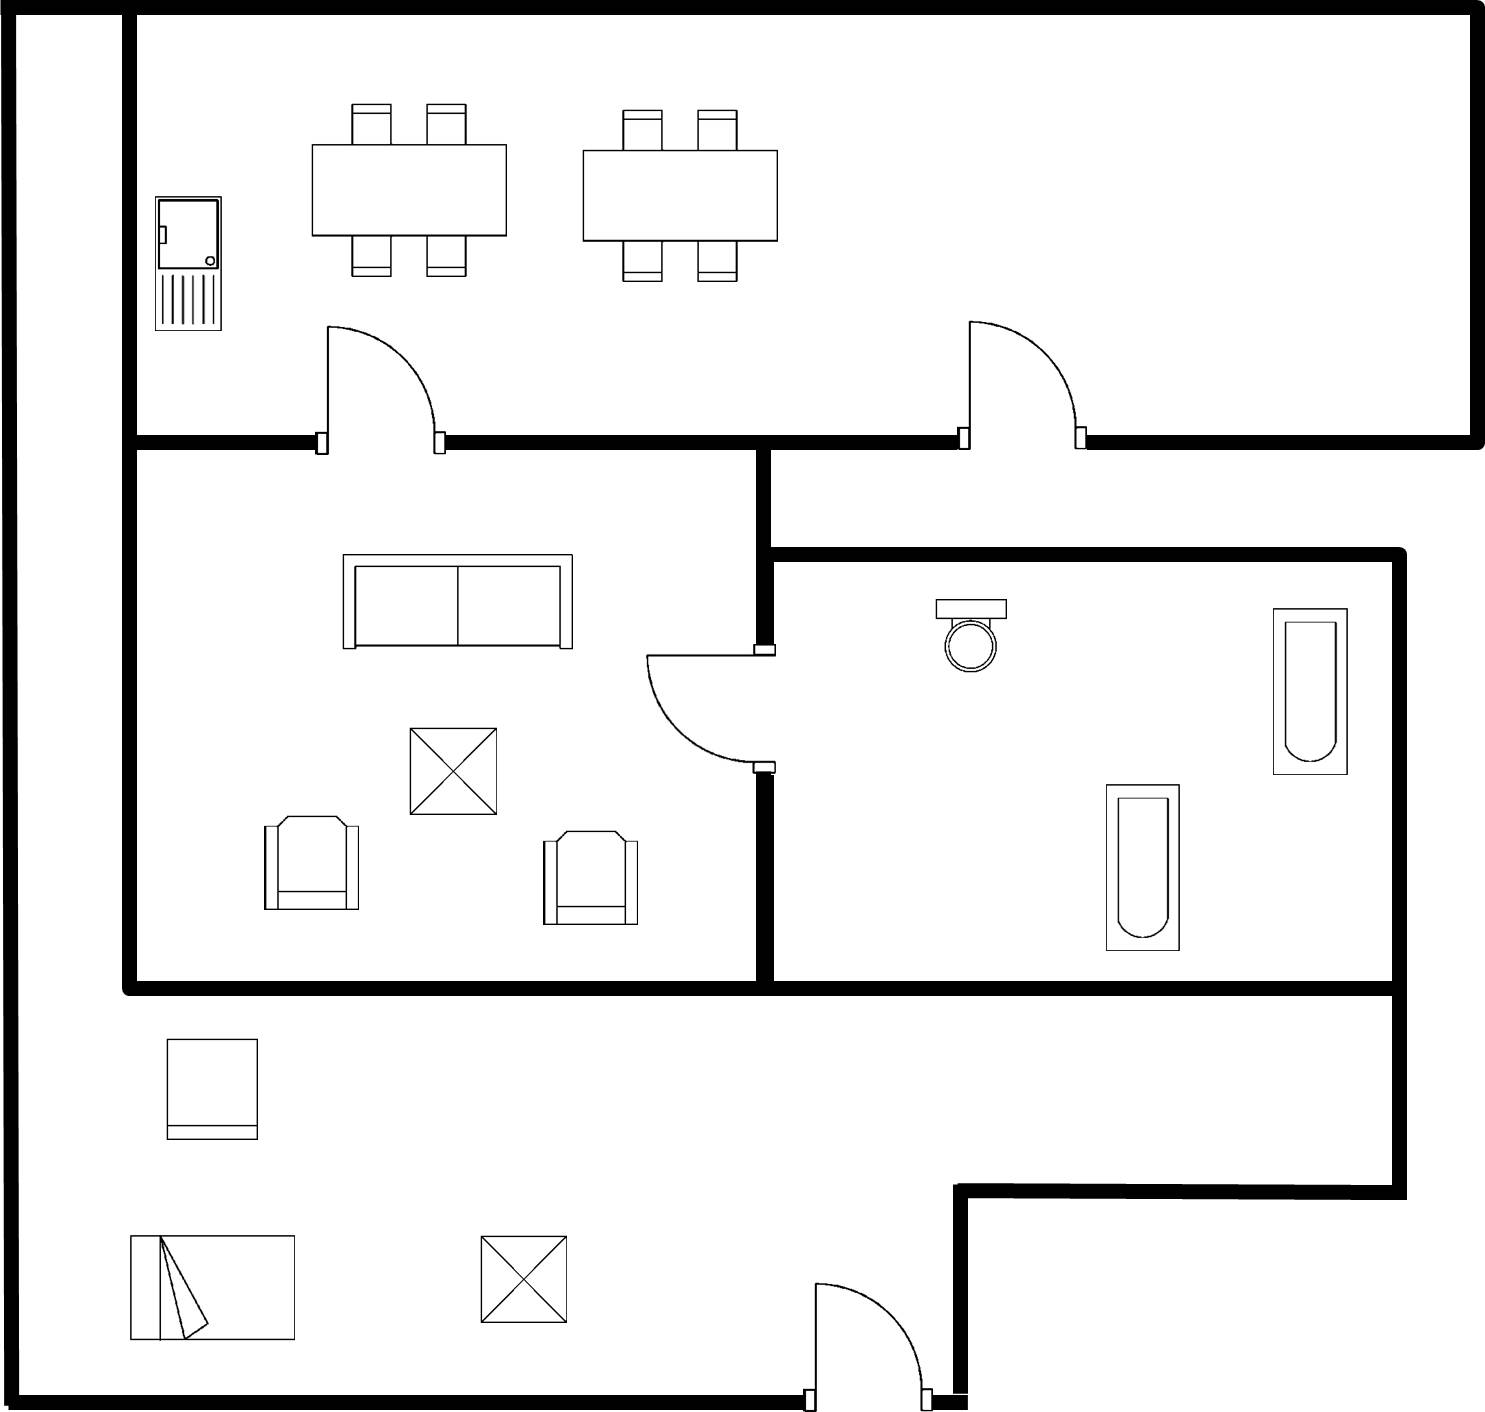armchair: (533, 822, 648, 940), (252, 806, 369, 922)
bed: (116, 1224, 307, 1355)
coffee_table: (397, 720, 512, 828), (470, 1228, 579, 1335)
dining_table: (570, 96, 792, 294), (299, 94, 521, 291)
large_sink: (921, 589, 1021, 684)
large_sofa: (325, 546, 585, 665)
sink: (145, 187, 238, 341)
small_sofa: (158, 1028, 273, 1150)
tub: (1093, 774, 1193, 962), (1260, 602, 1356, 785)
